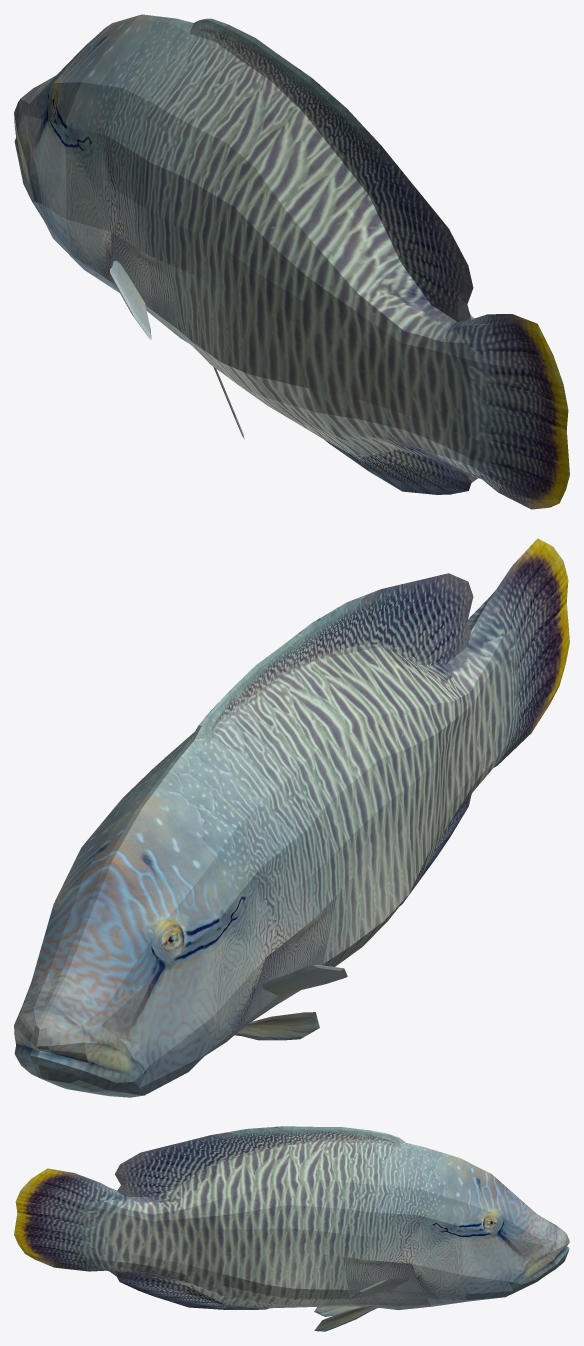
The model's file is crassilabrus-undulatus-female.glb.
3 views of the same model, one above another, from view 1: azimuth 30°, elevation 25°; view 2: azimuth 150°, elevation 25°; view 3: azimuth 270°, elevation 25° (orthographic). The views are drawn at different scales.
Parts seen in each view (by area): view 1: humphead_wrasse_female, pectoral.l; view 2: humphead_wrasse_female, pelvic.l, pectoral.l; view 3: humphead_wrasse_female, pelvic.r, pectoral.r, pelvic.l.
Part boxes in pixels (<box>): humphead_wrasse_female: <box>14,14,569,509</box>; pectoral.l: <box>110,260,151,339</box>; humphead_wrasse_female: <box>14,538,569,1097</box>; pelvic.l: <box>235,1012,319,1040</box>; pectoral.l: <box>262,964,347,995</box>; humphead_wrasse_female: <box>14,1126,569,1310</box>; pelvic.r: <box>314,1305,378,1331</box>; pectoral.r: <box>348,1277,410,1299</box>; pelvic.l: <box>314,1306,362,1316</box>.
Size of the model in its own units: 2.28 by 3.93 by 10.01.
Materials: 1 (1 with a texture image).
